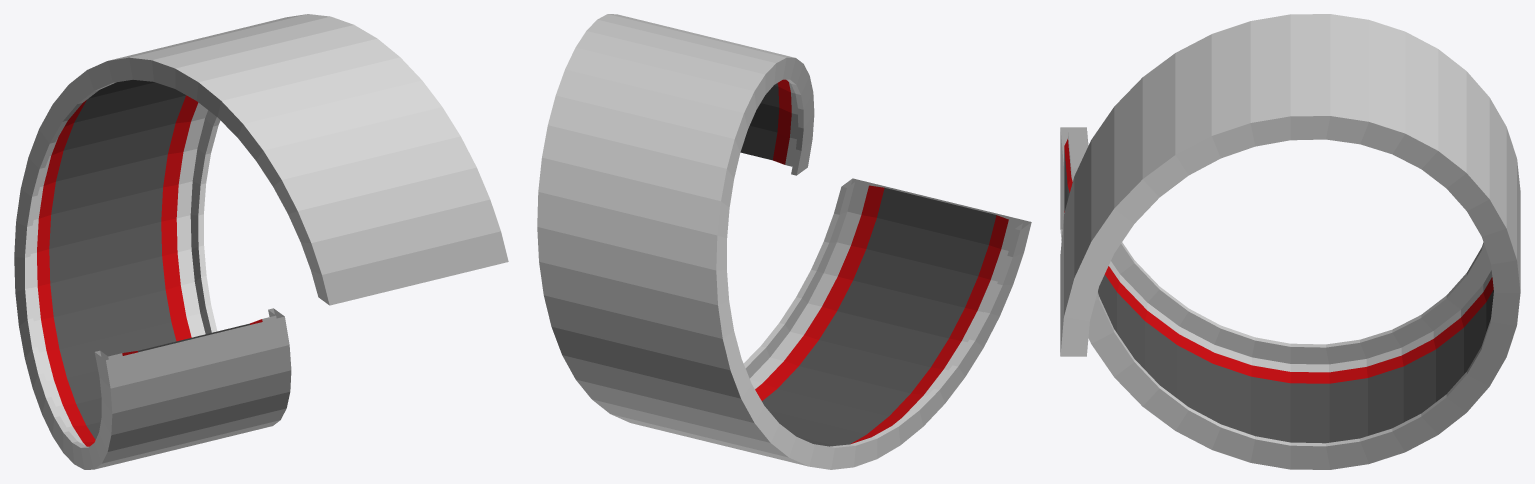
File: Loop_Right.fbx
The picture shows the model from 3 angles, left to right: view 1: azimuth 30°, elevation 25°; view 2: azimuth 150°, elevation 25°; view 3: azimuth 270°, elevation 25°; orthographic projection. The views are drawn at different scales.
Parts seen in each view (by area): view 1: Loop_Right; view 2: Loop_Right; view 3: Loop_Right.
Boxes of the visible parts, left/top/right/bottom form: Loop_Right: left=14, top=14, right=508, bottom=469; Loop_Right: left=537, top=14, right=1031, bottom=469; Loop_Right: left=1060, top=14, right=1520, bottom=469.
Size of the model in its own units: 2880 by 2440 by 2440.
